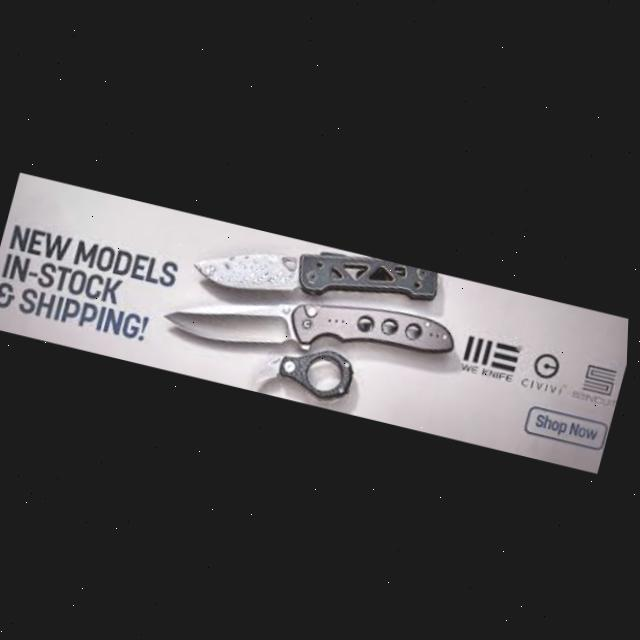Knife: (160, 256, 463, 392), (190, 216, 444, 332)
